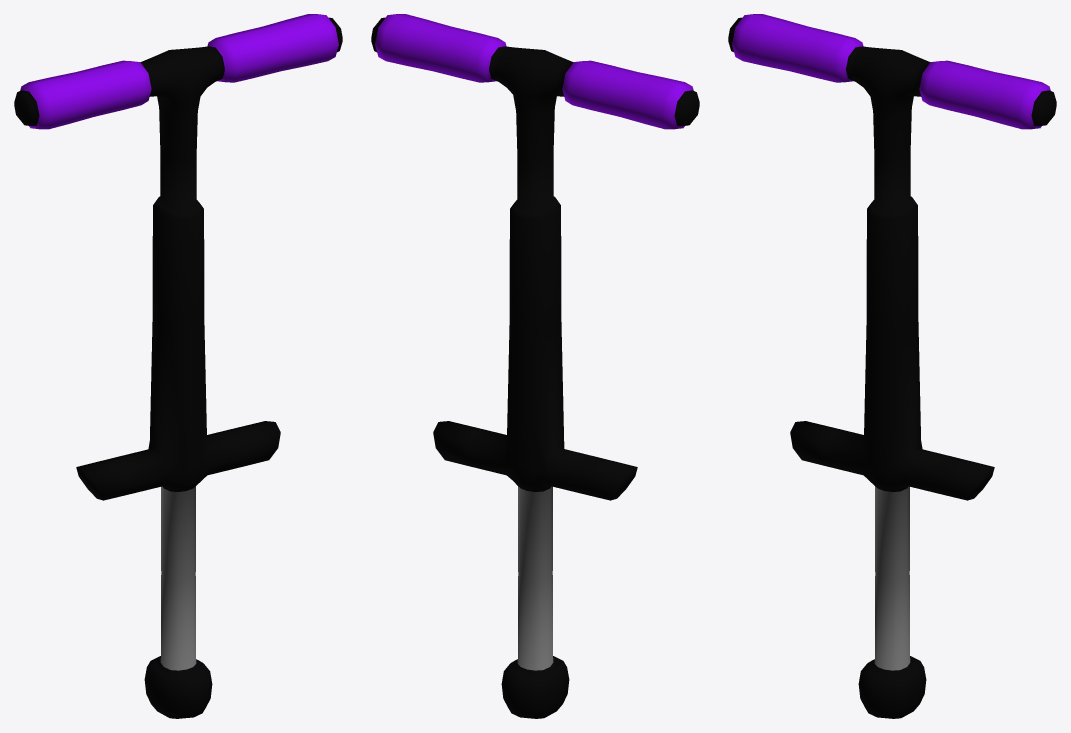
File: Pogo.fbx
The picture shows the model from 3 angles, left to right: view 1: azimuth 30°, elevation 25°; view 2: azimuth 150°, elevation 25°; view 3: azimuth 330°, elevation 25°; orthographic projection.
Parts seen in each view (by area): view 1: pogo; view 2: pogo; view 3: pogo.
Part boxes in pixels (x1,y1,x2,y2): pogo: (14, 14, 342, 718); pogo: (371, 14, 699, 718); pogo: (728, 14, 1056, 718).
Size of the model in its own units: 257 by 515 by 55.13.
